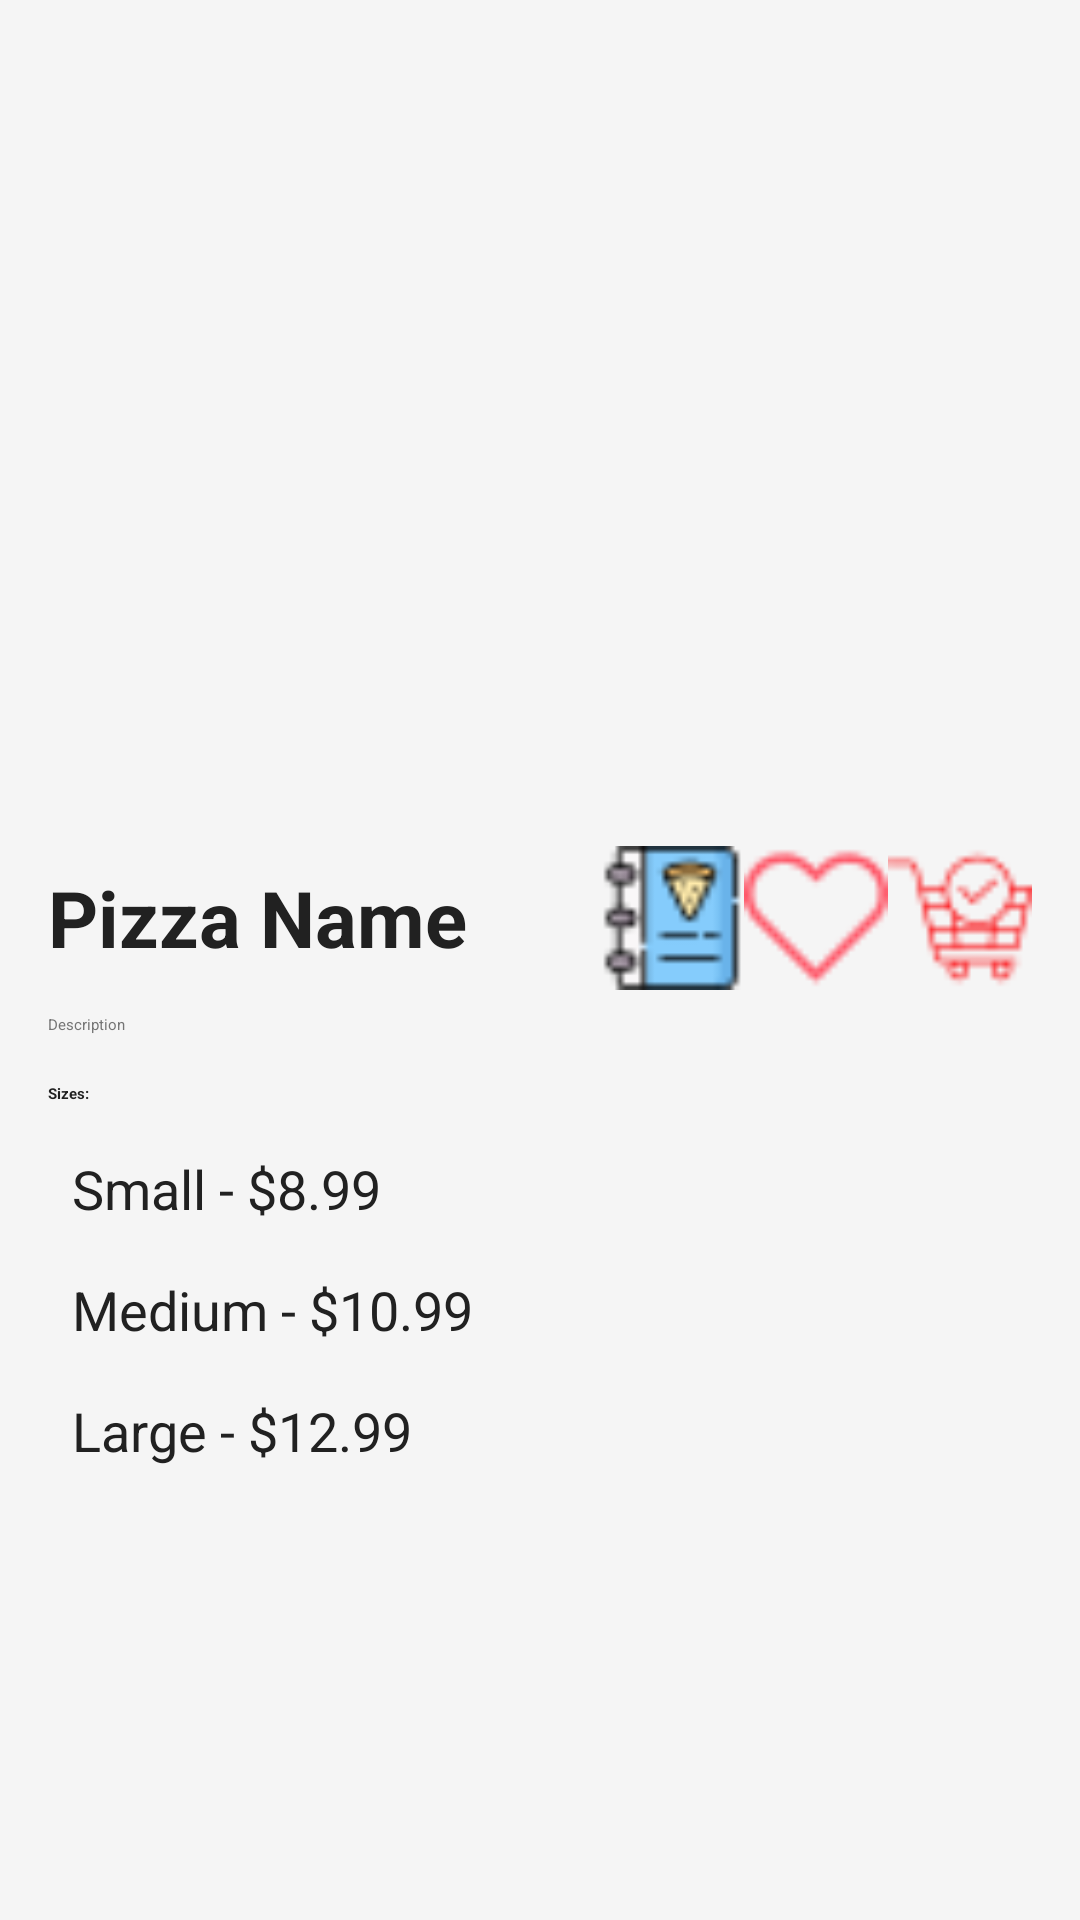

Icons on this 1080*1920 Android screen, each with the point to tap as point (x, y):
heartempty: point (816, 917)
menu: point (672, 918)
order: point (960, 917)
